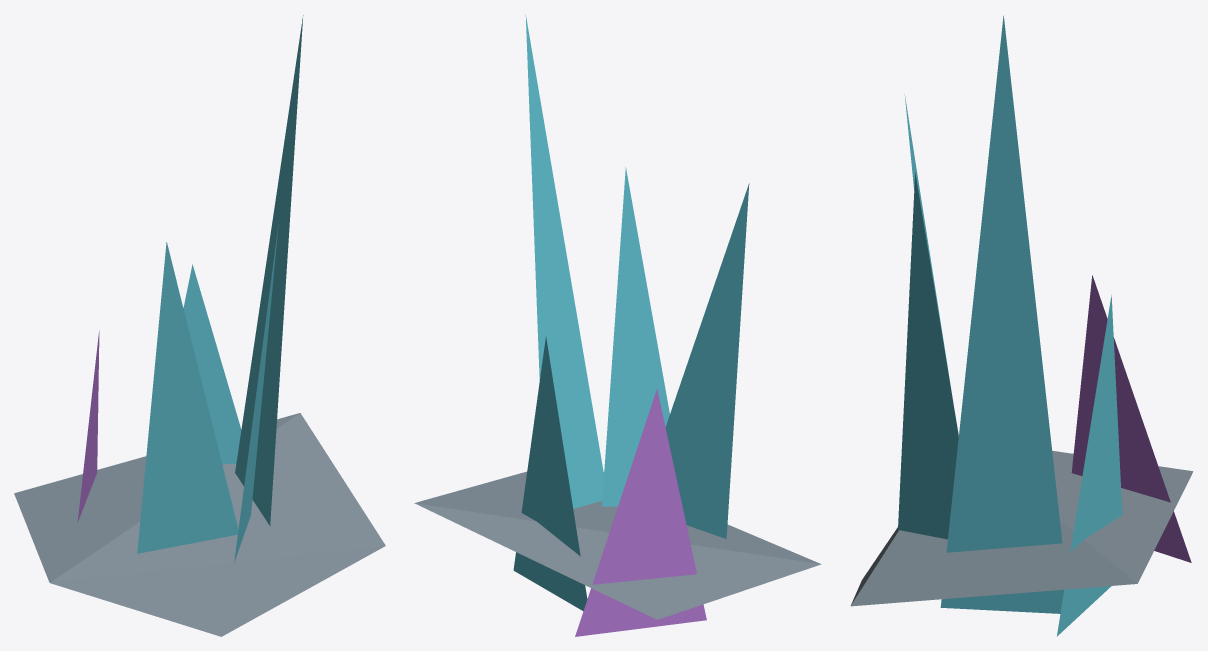
The model's file is Crystal_01_LOD2.fbx.
3 views of the same model, side by side, from view 1: azimuth 30°, elevation 25°; view 2: azimuth 150°, elevation 25°; view 3: azimuth 270°, elevation 25° (orthographic). The views are drawn at different scales.
Visible parts, largest first — view 1: Crystal_01_LOD2; view 2: Crystal_01_LOD2; view 3: Crystal_01_LOD2.
Boxes of the visible parts, left/top/right/bottom form: Crystal_01_LOD2: left=14, top=15, right=385, bottom=636; Crystal_01_LOD2: left=414, top=15, right=821, bottom=636; Crystal_01_LOD2: left=850, top=15, right=1193, bottom=636.
Bounding box in the file's own units: 152 × 242 × 116.
